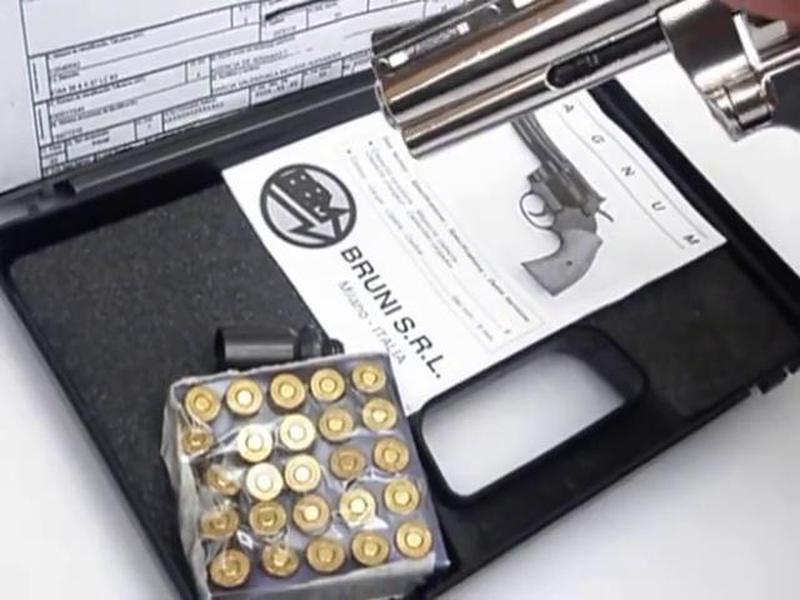Revolver: (325, 1, 800, 188)
